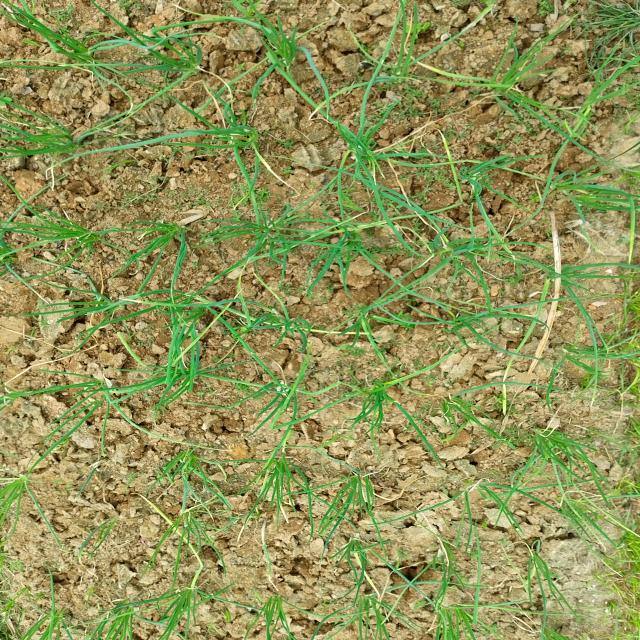Spring Onion: (179, 112, 285, 175), (328, 124, 415, 184), (139, 494, 242, 544), (544, 162, 629, 222), (521, 415, 601, 475), (248, 298, 328, 356), (52, 369, 140, 421), (156, 336, 228, 399), (234, 15, 314, 69), (429, 69, 537, 108), (20, 102, 87, 162), (302, 528, 389, 574), (343, 581, 410, 640), (154, 439, 225, 490), (138, 212, 202, 268), (527, 252, 597, 302), (133, 32, 205, 79), (335, 369, 401, 420), (322, 470, 402, 512), (0, 464, 55, 525), (313, 216, 380, 266), (48, 22, 100, 84), (218, 214, 285, 261), (160, 574, 214, 632), (460, 149, 504, 216), (434, 588, 494, 634), (46, 217, 114, 256), (93, 594, 148, 636), (247, 597, 304, 635), (244, 453, 307, 487), (265, 376, 317, 415)
